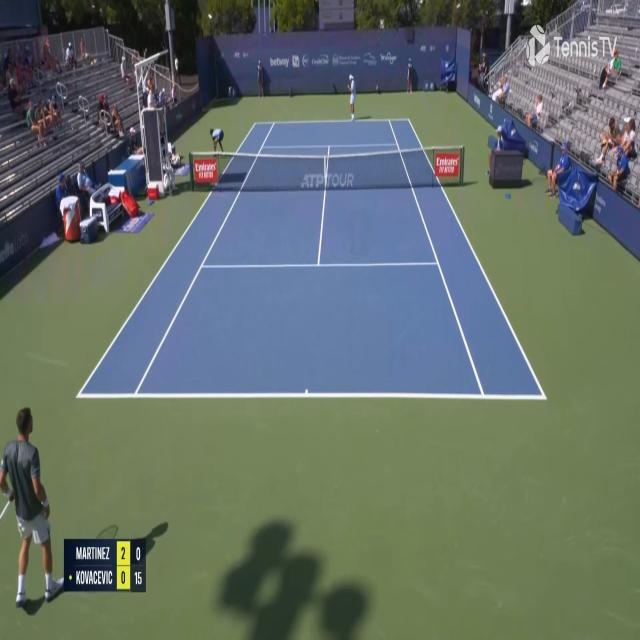tennis-player: (0, 398, 64, 618), (346, 74, 357, 122)
